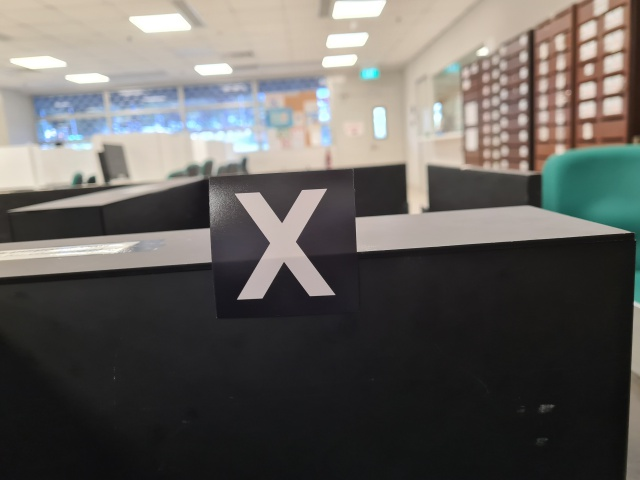alphabet_x: (209, 171, 359, 319)
